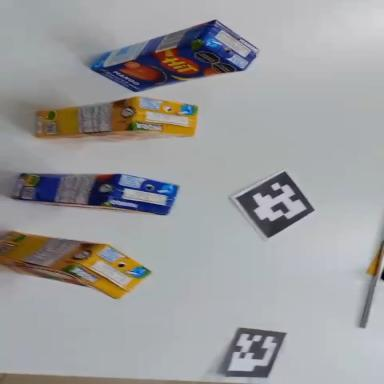HIT-MANGO: (85, 12, 261, 100), (12, 173, 178, 215)
HIT-MORA: (0, 223, 154, 304), (33, 93, 199, 146)
cara_F: (91, 34, 243, 101), (0, 259, 119, 299), (39, 127, 193, 147)
